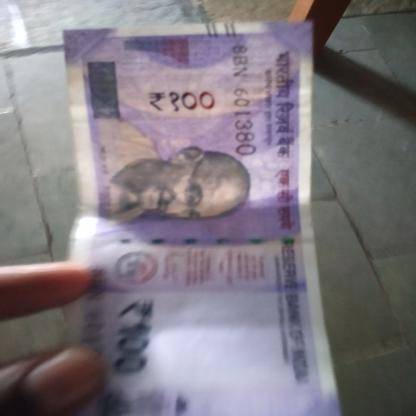New100Front: (66, 37, 303, 415)
